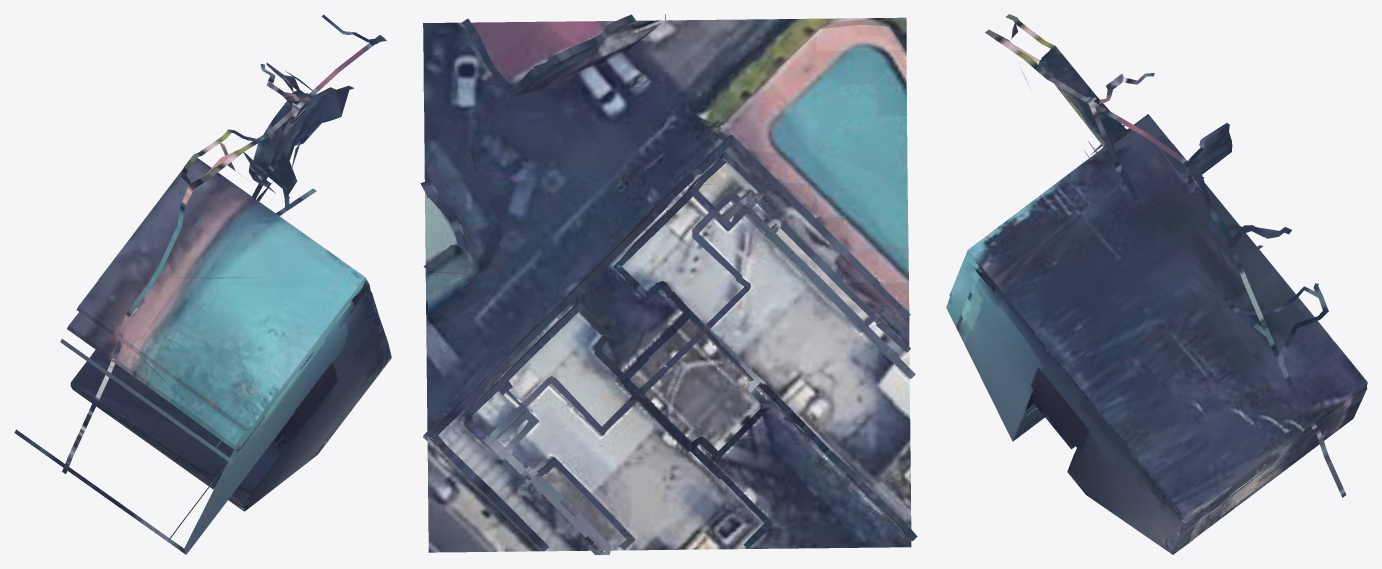
3 renders of one model, left to right at view 1: azimuth 30°, elevation 25°; view 2: azimuth 150°, elevation 25°; view 3: azimuth 270°, elevation 25°, orthographic. The views are drawn at different scales.
Size of the model in its own units: 41.15 by 43.52 by 36.81.
Materials: 2 (2 with a texture image).
